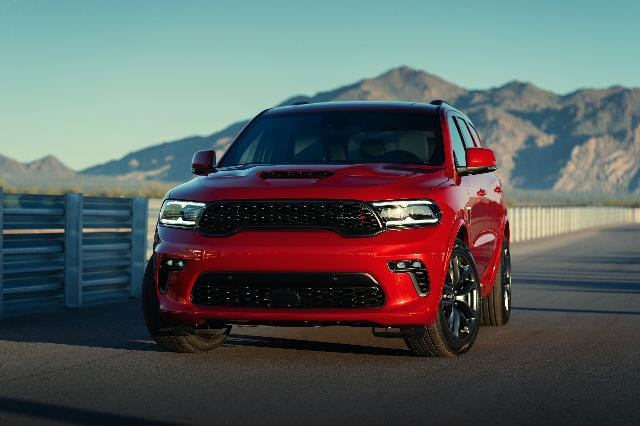dodge: (140, 99, 512, 359)
